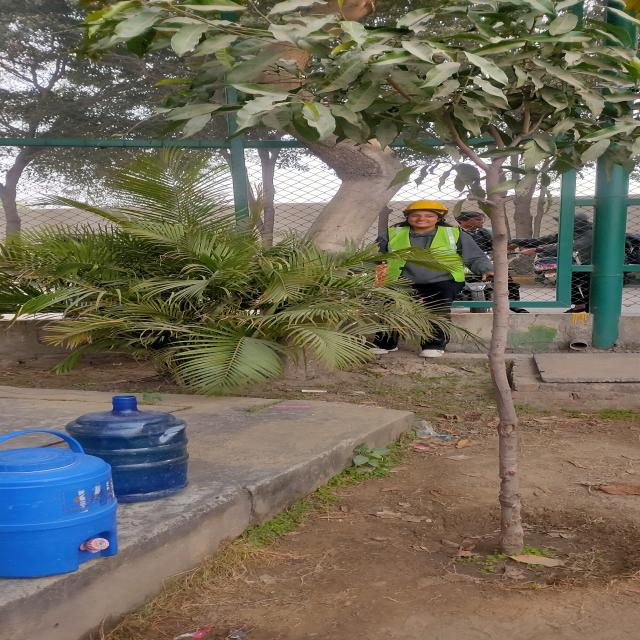safe: (380, 197, 478, 347)
